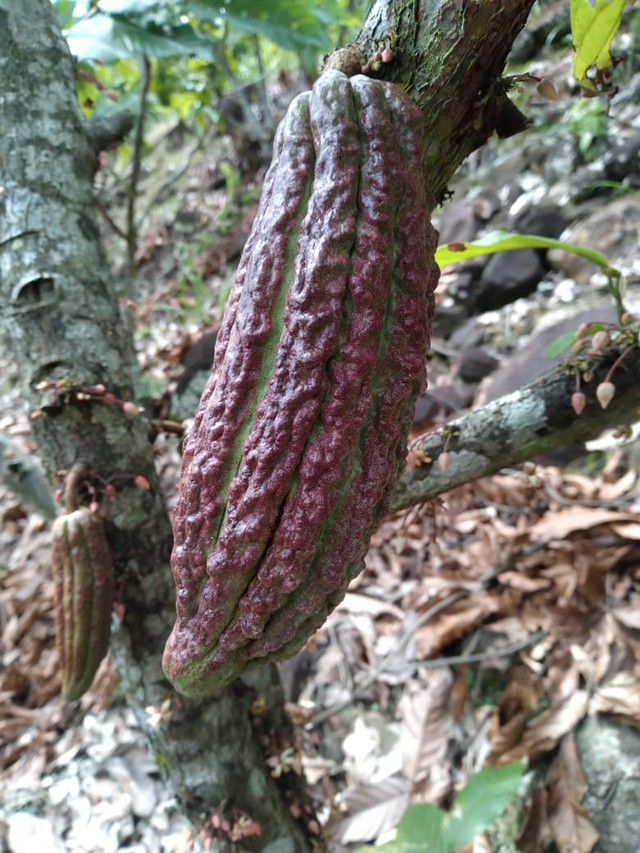Health: (143, 38, 451, 729), (455, 375, 466, 387)
